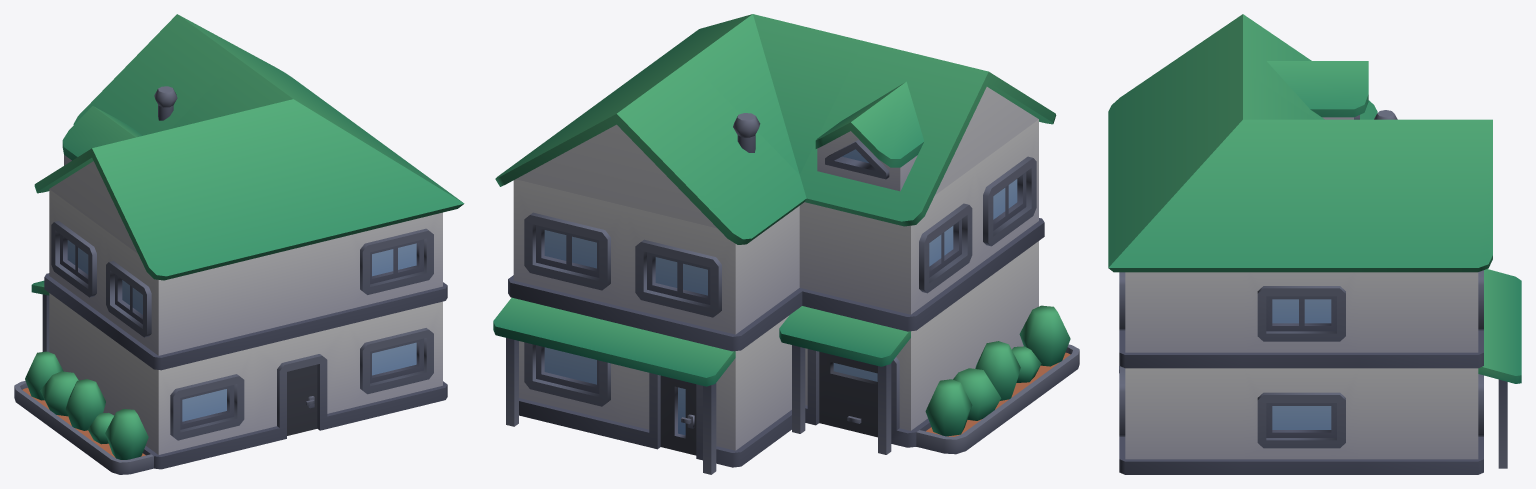
File: suburban-f.glb
3 renders of one model, left to right at view 1: azimuth 30°, elevation 25°; view 2: azimuth 150°, elevation 25°; view 3: azimuth 270°, elevation 25°, orthographic. The views are drawn at different scales.
Parts seen in each view (by area): view 1: suburban-f; view 2: suburban-f; view 3: suburban-f.
Boxes of the visible parts, x1,y1,x2,y2 form: suburban-f: (14, 14, 464, 474); suburban-f: (493, 14, 1079, 474); suburban-f: (1108, 14, 1521, 474).
Bounding box in the file's own units: 1.43 × 1.14 × 1.41.
